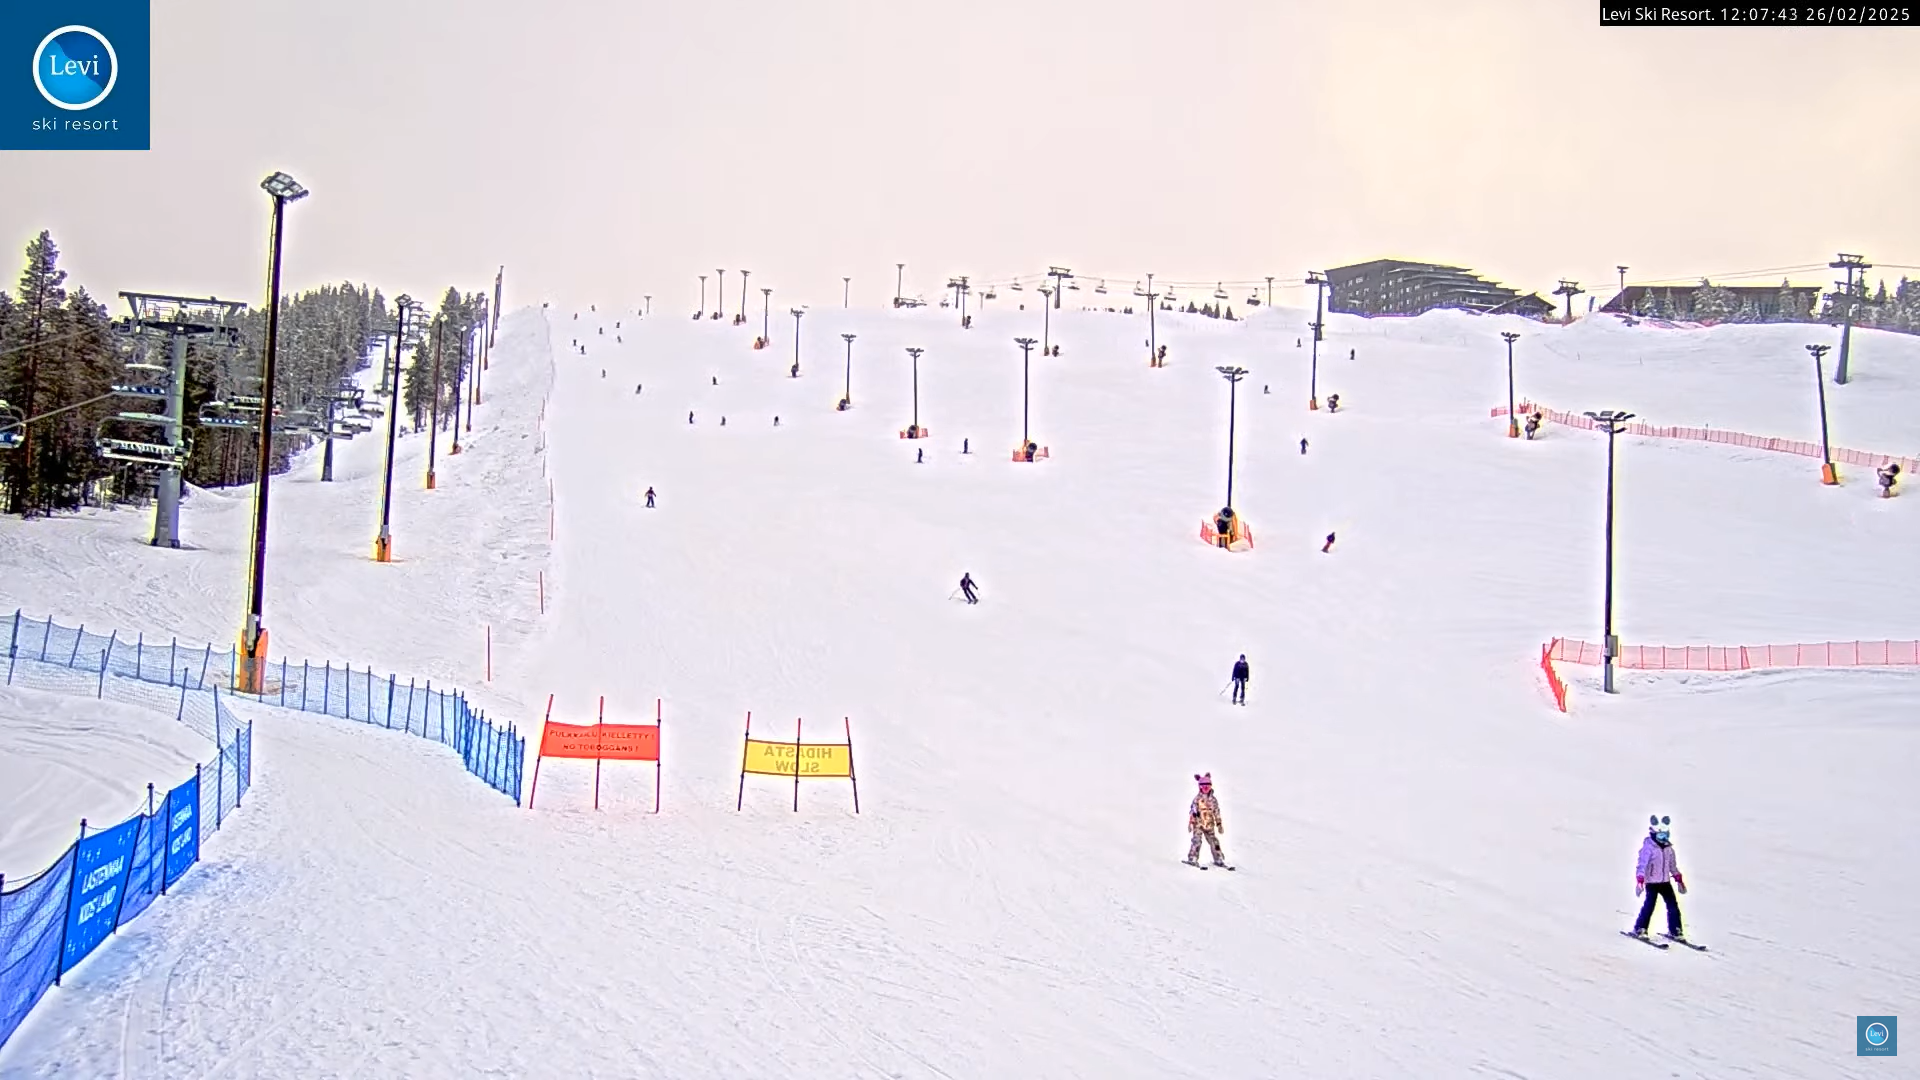skier: (1621, 808, 1716, 959), (1187, 769, 1242, 876), (1221, 651, 1261, 711), (949, 567, 988, 609)
